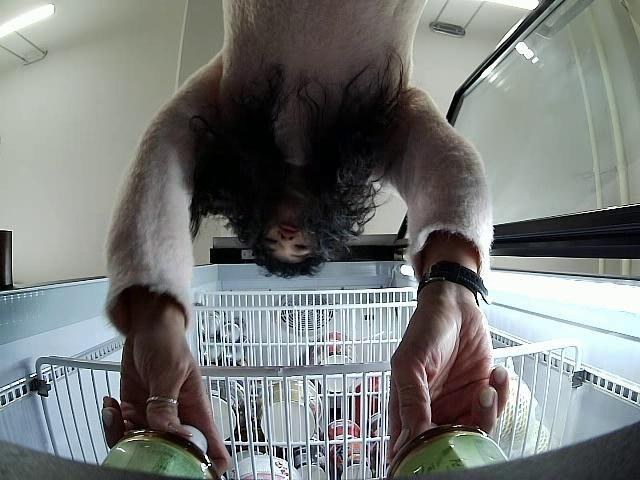19_17cha: (386, 427, 511, 480), (102, 427, 217, 480)
